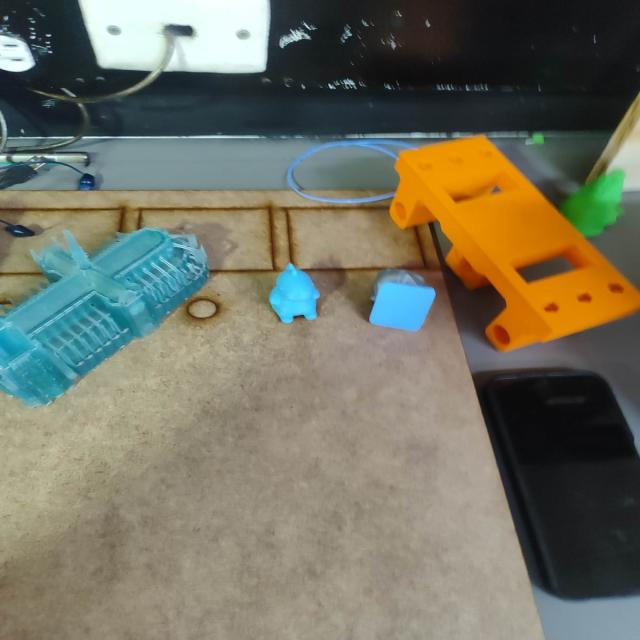DINO: (263, 267, 329, 322)
